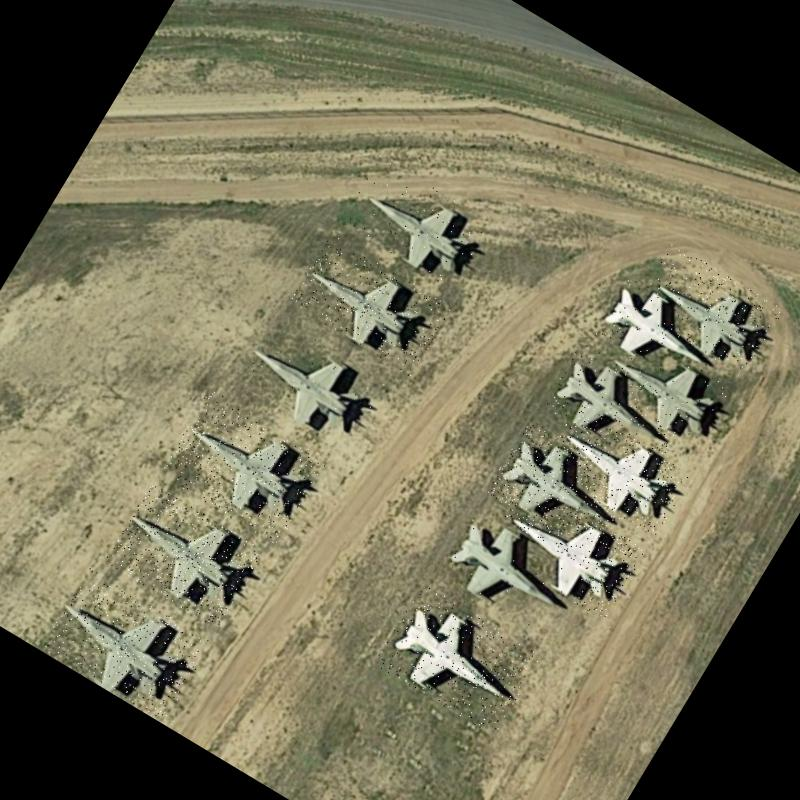A16: (158, 388, 328, 545), (40, 567, 212, 722), (372, 582, 542, 736), (288, 233, 453, 377), (103, 482, 264, 628), (485, 478, 646, 620), (231, 309, 389, 447), (484, 420, 639, 560), (538, 401, 694, 538), (432, 503, 586, 640), (337, 155, 490, 292), (632, 243, 784, 376), (542, 342, 693, 474), (593, 328, 731, 448), (593, 274, 727, 392)
